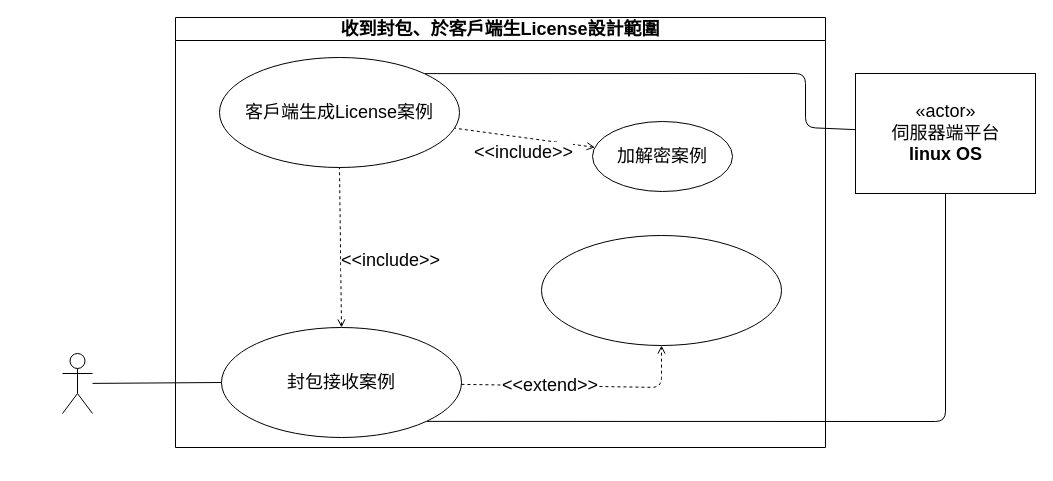
Some shapes in this 1053 by 481 pixel diagram are drawn without their labels. The centre of each missing label's shape, as x and y in pixels:
"伺服器端 平台(收到封包)" goes at (x=77, y=383).
"封包傳送案例" goes at (x=661, y=290).
